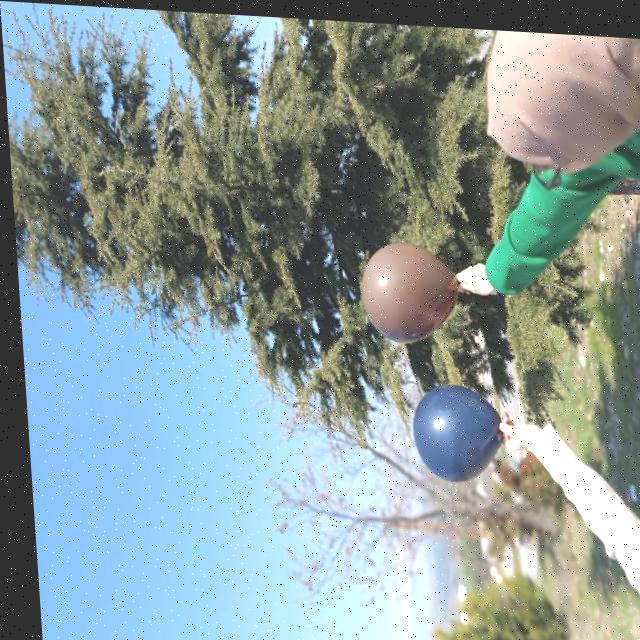balloon: (403, 371, 504, 487), (351, 236, 455, 339)
